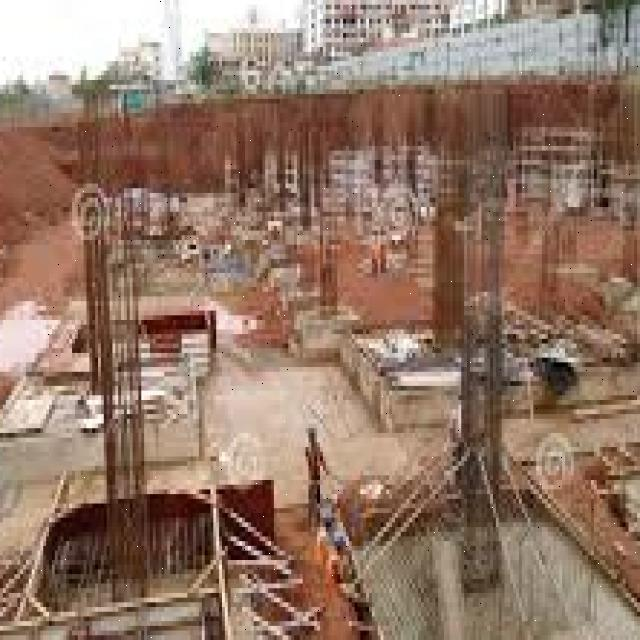Foundation: (331, 179, 640, 640), (277, 108, 640, 414), (6, 221, 265, 640), (46, 154, 217, 479)
